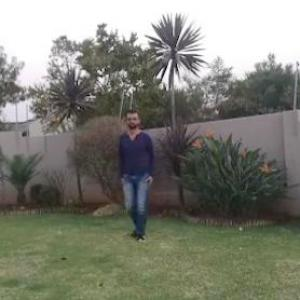follow: (121, 112, 155, 233)
